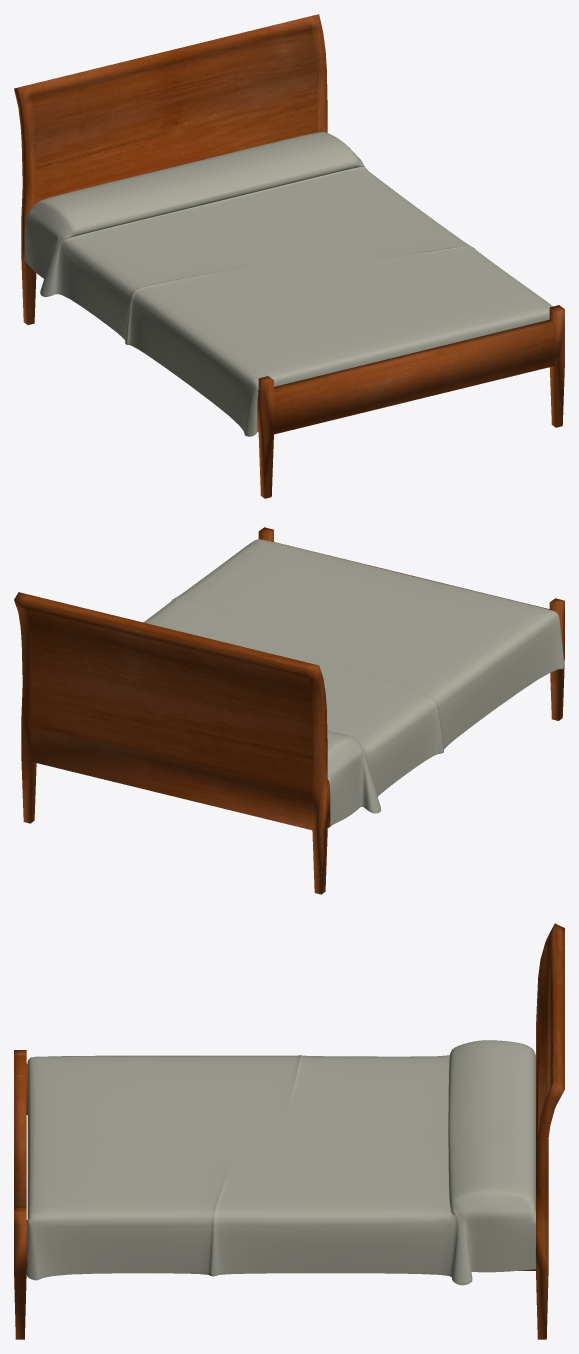
Rendered from bed1.obj.
The picture shows the model from 3 angles, top to bottom: view 1: azimuth 30°, elevation 25°; view 2: azimuth 150°, elevation 25°; view 3: azimuth 270°, elevation 25°; orthographic projection. The views are drawn at different scales.
Visible parts, largest first — view 1: Colcha_Plane.002, bed_Plane; view 2: bed_Plane, Colcha_Plane.002; view 3: Colcha_Plane.002, bed_Plane.
Boxes of the visible parts, x1,y1,x2,y2 form: Colcha_Plane.002: (24,132,552,436); bed_Plane: (14,14,564,498); bed_Plane: (14,527,564,894); Colcha_Plane.002: (143,539,564,825); Colcha_Plane.002: (26,1040,535,1285); bed_Plane: (14,923,564,1339).
Size of the model in its own units: 169 by 111 by 216.
